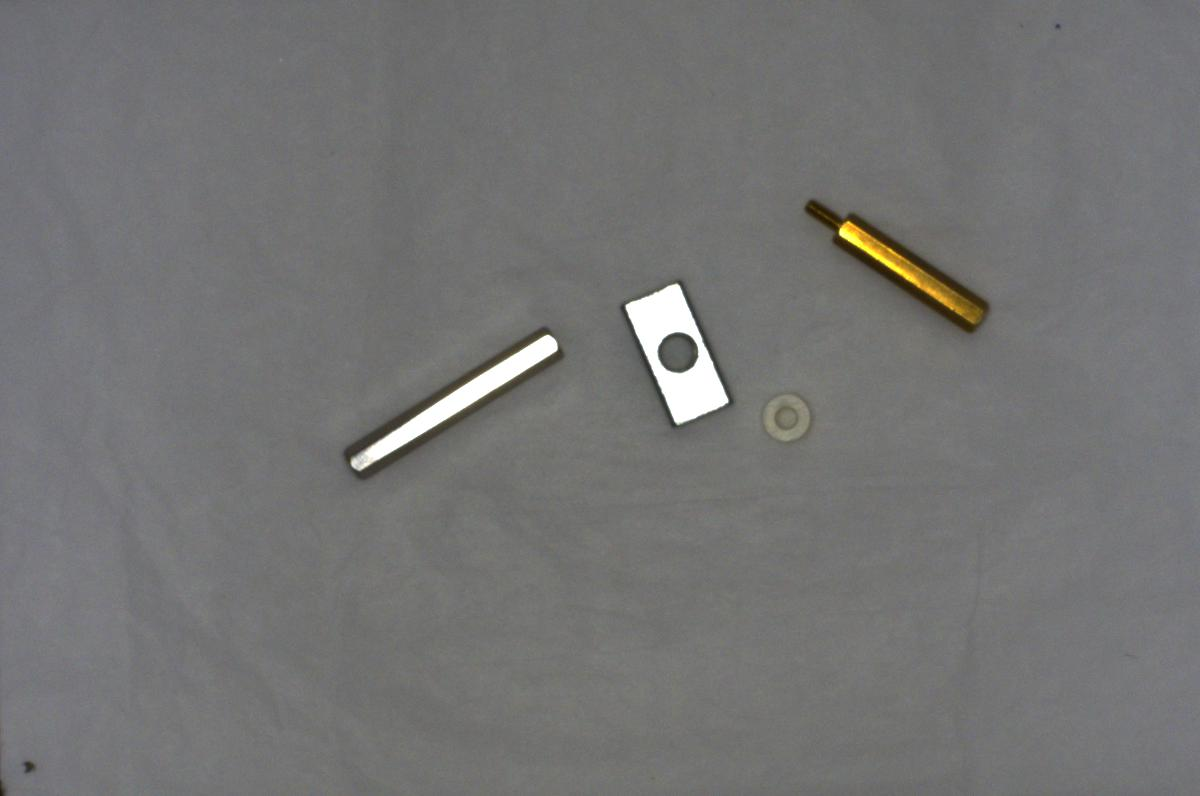Double hexagonal column: (321, 319, 575, 492)
Hexagon pillar: (795, 195, 1001, 338)
Plastic cushion pillar: (759, 385, 817, 448)
Rectangular nut: (615, 273, 737, 436)
